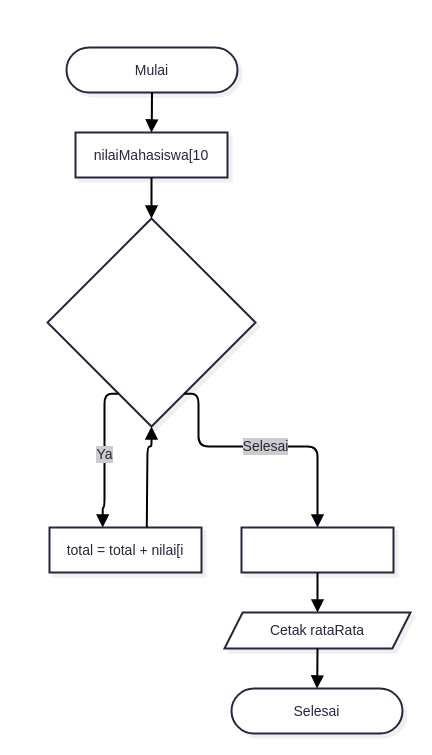
The diagram is 432 pixels wide and 755 high, and some of its shapes have lost their labels. Each missing label, with the centre of its shape:
"Loop i = 0 s.d. 9" belongs at point (153, 324).
"rataRata = total / 10" belongs at point (319, 551).
